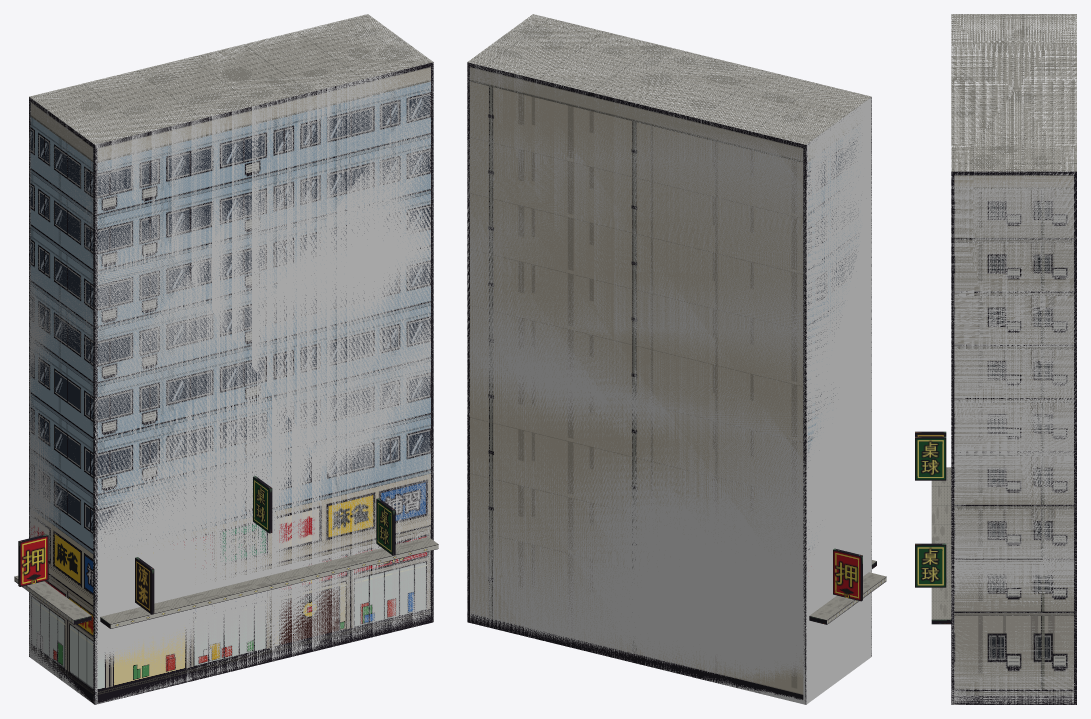
The picture shows the model from 3 angles, left to right: view 1: azimuth 30°, elevation 25°; view 2: azimuth 150°, elevation 25°; view 3: azimuth 270°, elevation 25°; orthographic projection. The views are drawn at different scales.
Visible parts, largest first — view 1: COL_19D-E24_0, 19D-E24; view 2: COL_19D-E24_0, 19D-E24; view 3: 19D-E24, COL_19D-E24_0.
Part boxes in pixels (box(x1,y1,x2,y2)): COL_19D-E24_0: box(29, 14, 433, 704); 19D-E24: box(14, 14, 438, 704); COL_19D-E24_0: box(467, 14, 871, 704); 19D-E24: box(467, 14, 886, 704); 19D-E24: box(915, 14, 1076, 704); COL_19D-E24_0: box(951, 14, 1076, 704).
Size of the model in its own units: 20.85 by 30 by 8.25.
Materials: 1 (1 with a texture image).
